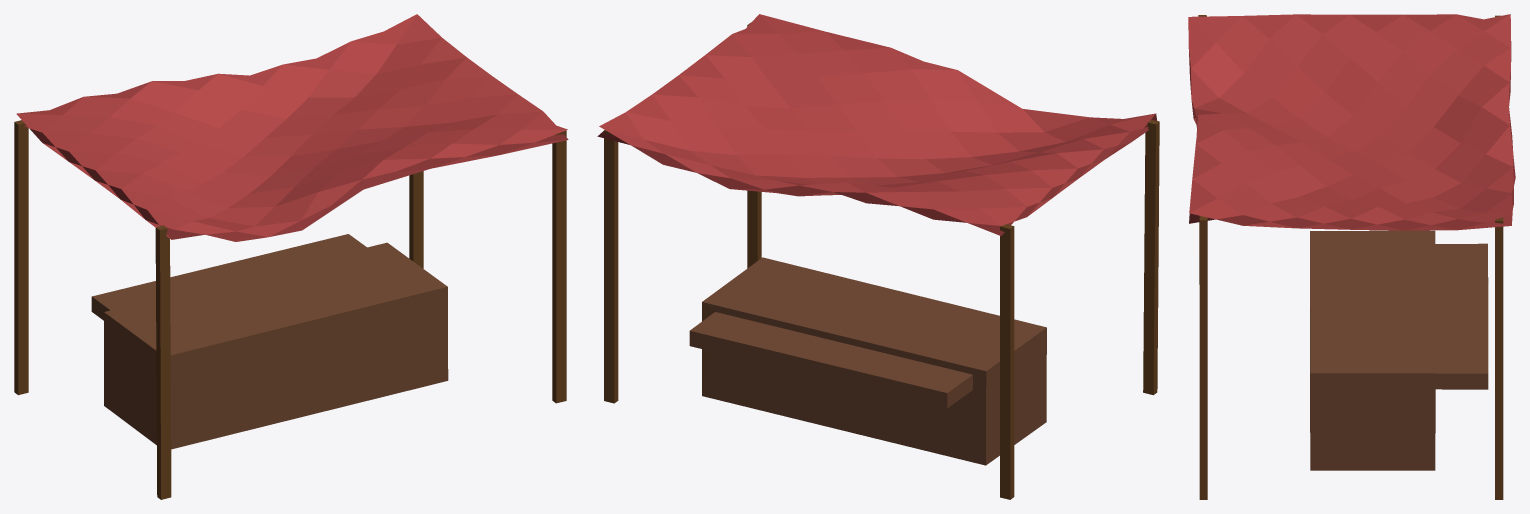
File: Shop.fbx
3 renders of one model, left to right at view 1: azimuth 30°, elevation 25°; view 2: azimuth 150°, elevation 25°; view 3: azimuth 270°, elevation 25°, orthographic. The views are drawn at different scales.
Visible parts, largest first — view 1: Shop; view 2: Shop; view 3: Shop.
Boxes of the visible parts, box(x1,y1,x2,y2) form: Shop: box(14, 14, 568, 499); Shop: box(597, 14, 1159, 499); Shop: box(1188, 14, 1515, 499).
Bounding box in the file's own units: 5.86 × 3.85 × 3.92.
